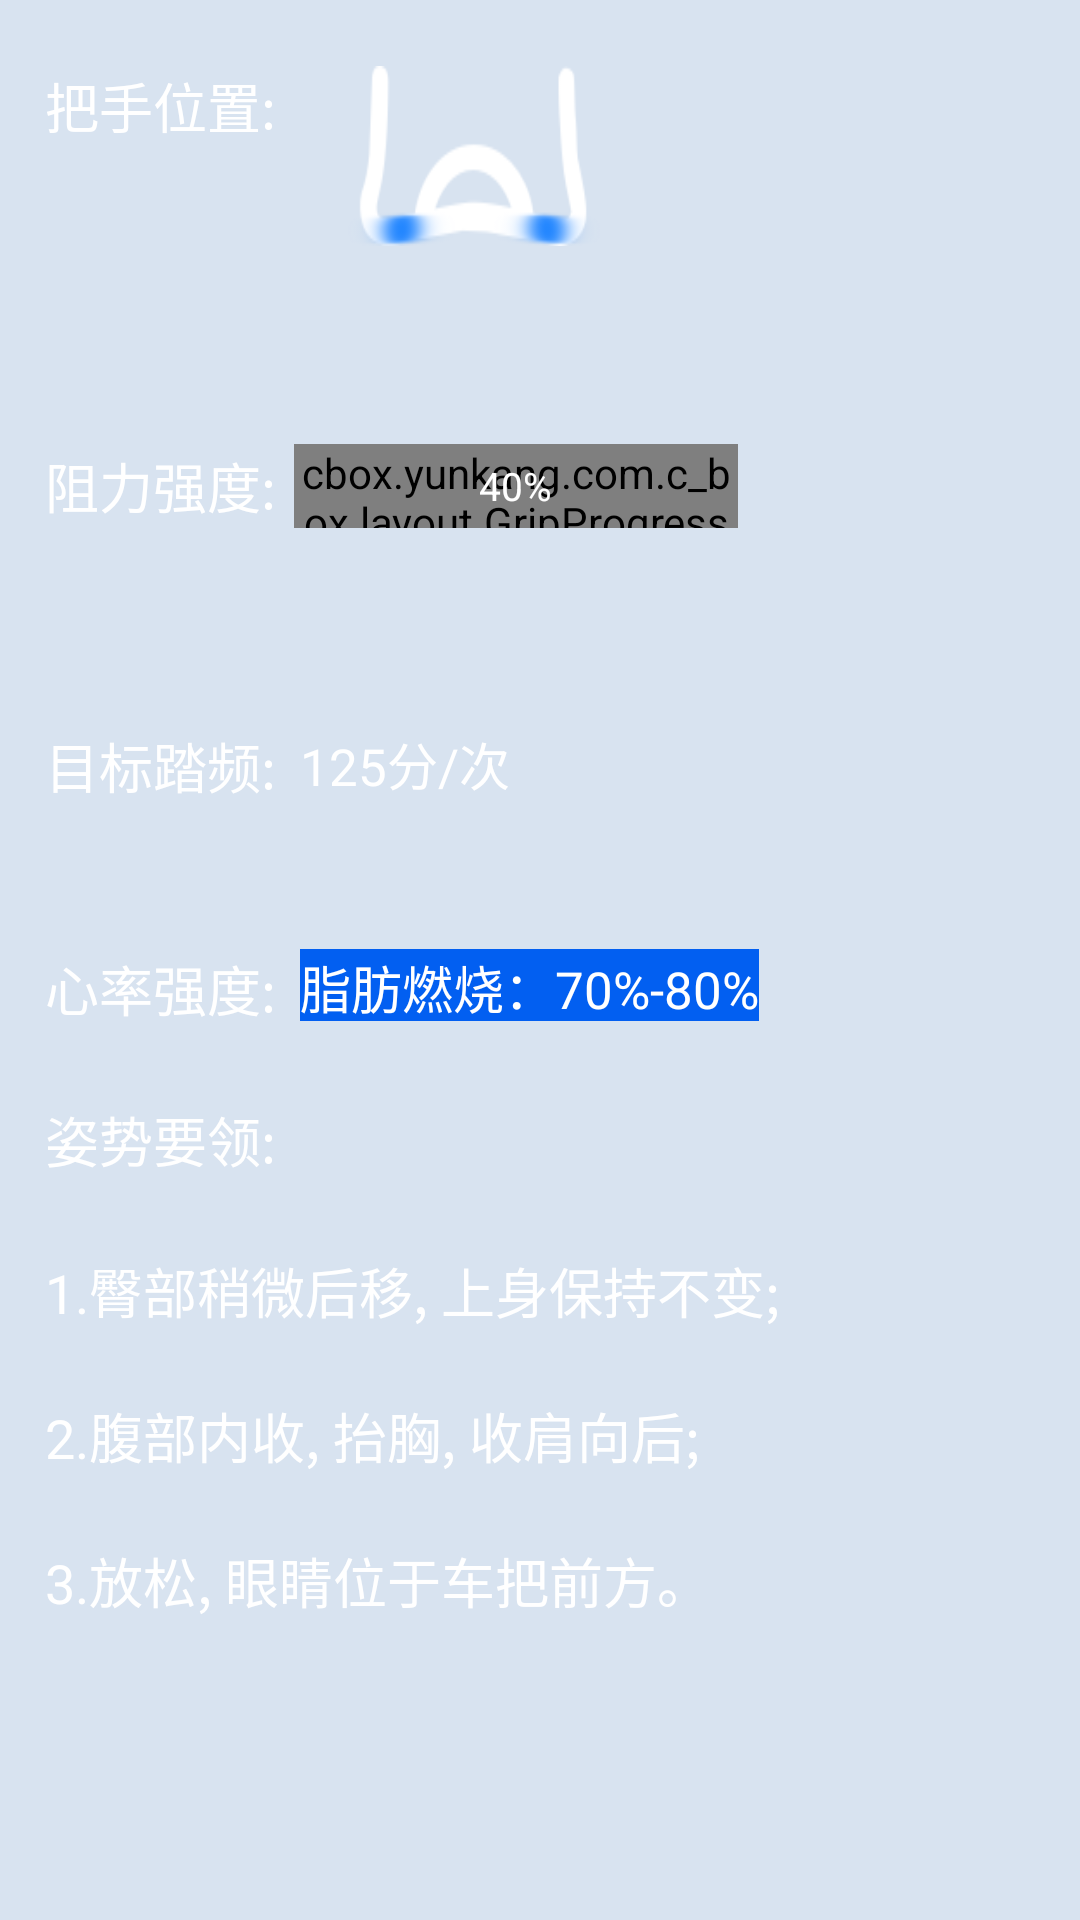

Icon click points for this 1080 × 1920 phone screenshot, format (x=x, y=y):
grip three: (x=473, y=156)
